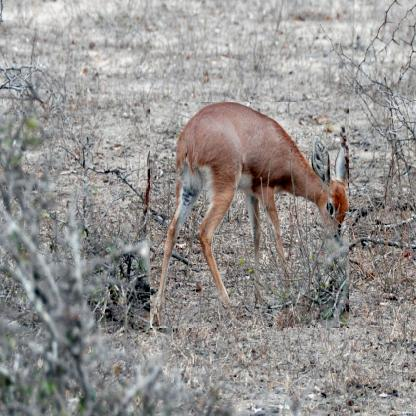Deer: (150, 102, 349, 328)
